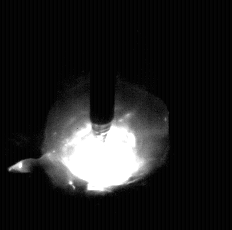arame: (90, 0, 116, 134)
poca: (44, 0, 168, 230)
